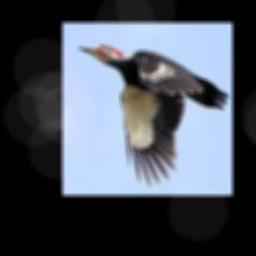Woodpecker: (76, 43, 229, 188)
